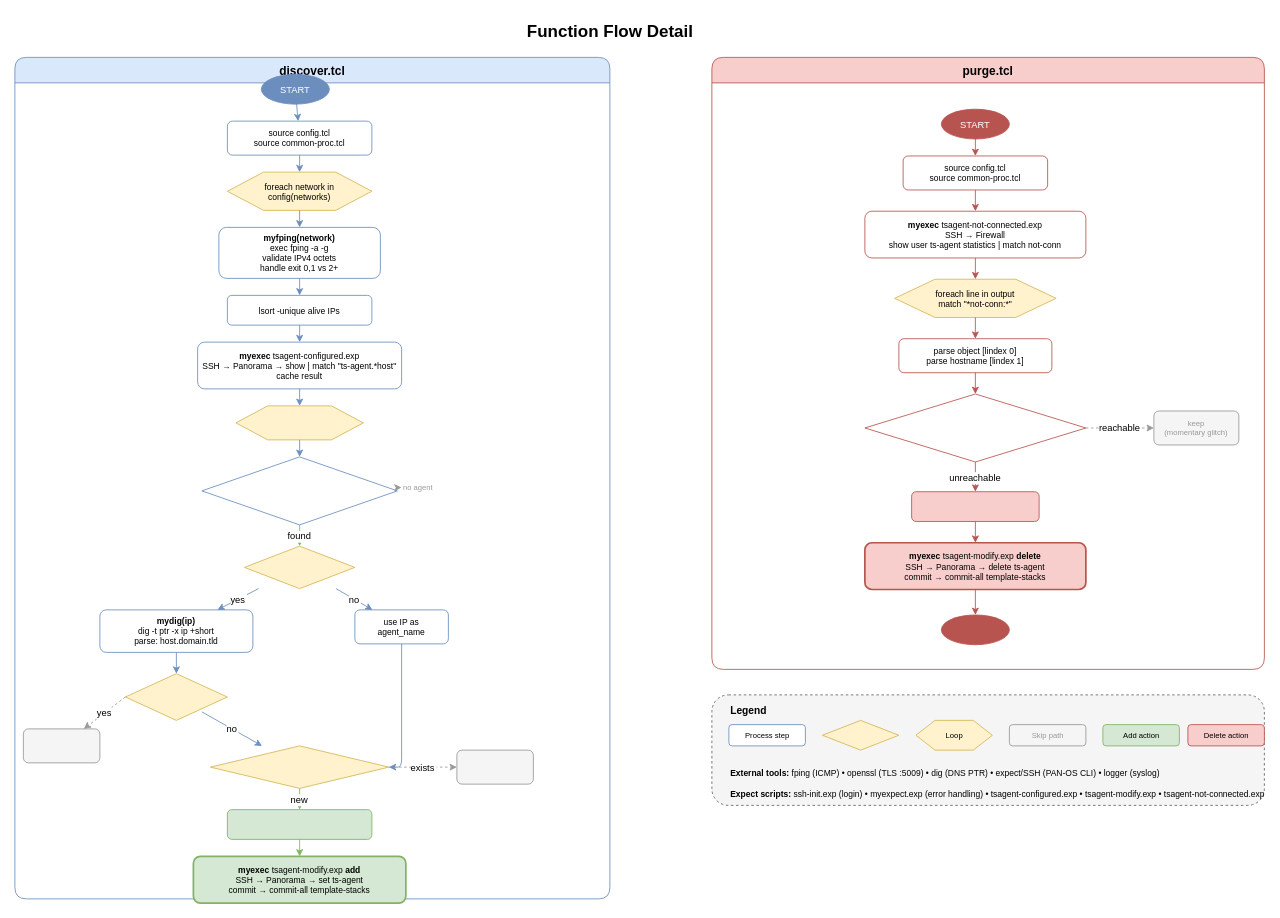
Image size: 1280x918. Some labels were removed from this diagram. Each missing label, with the centre of its shape:
config(dns)?: (x=299, y=567)
Decision: (x=860, y=735)
END: (x=975, y=629)
foreach ip in alive: (x=299, y=422)
hostname empty?: (x=176, y=696)
lappend add "object,hostname": (x=299, y=824)
lappend delete "object": (x=975, y=506)
mytsagent(hostname) openssl s_client :5009 double-check truly unreachable: (x=975, y=427)
mytsagent(ip) openssl s_client :5009 match "Terminal Server Agent": (x=299, y=490)
skip (already defined): (x=494, y=766)
skip (server in maintenance): (x=61, y=745)
string match agent in panorama cache?: (x=299, y=766)
